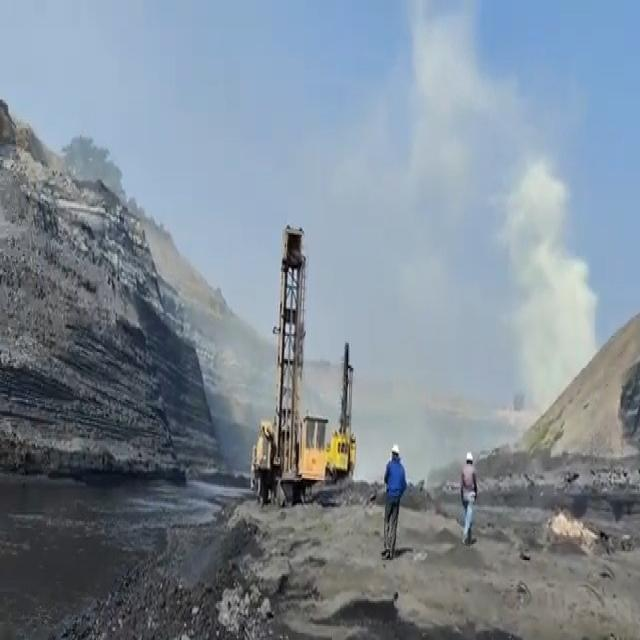person: (382, 443, 402, 558), (458, 448, 476, 540)
